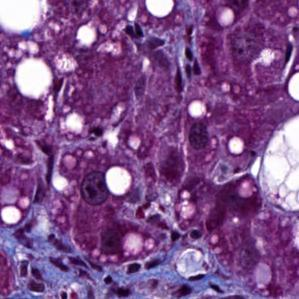ballooning: (251, 112, 297, 216)
